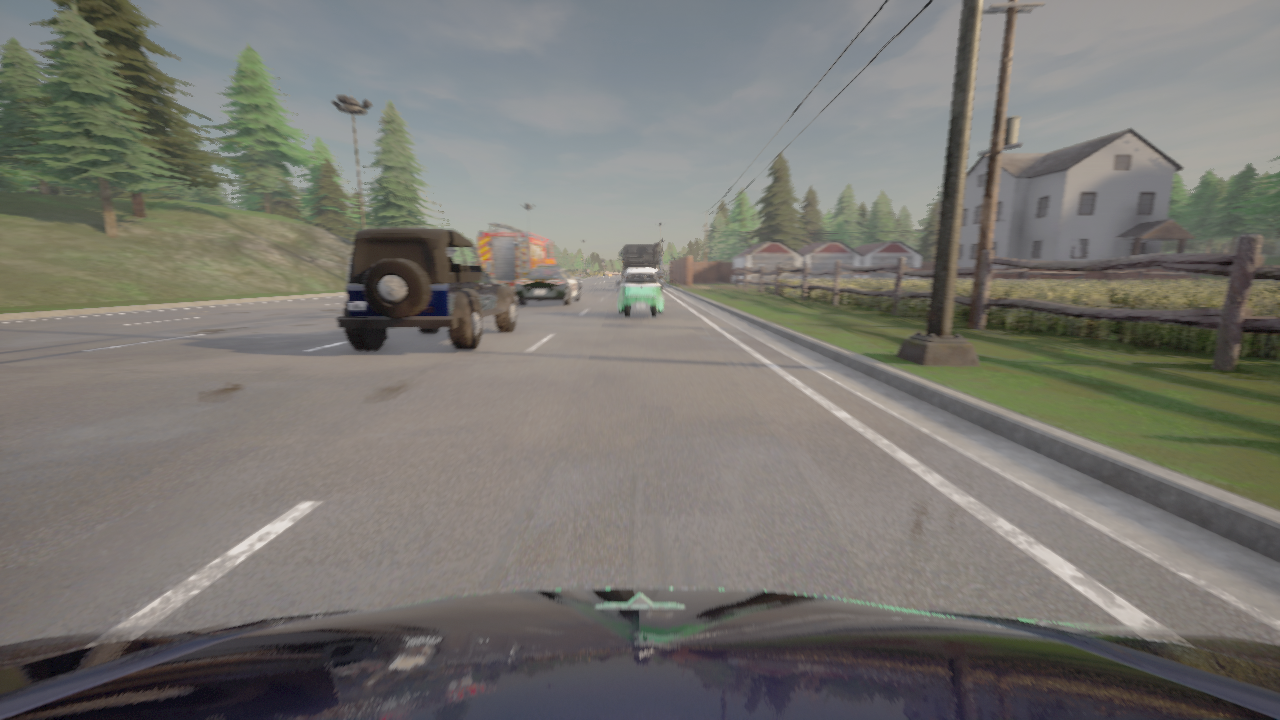cyclist: (0, 588, 1279, 719), (337, 228, 517, 350), (477, 222, 559, 287), (514, 265, 581, 306), (615, 268, 664, 317), (618, 243, 662, 291)
